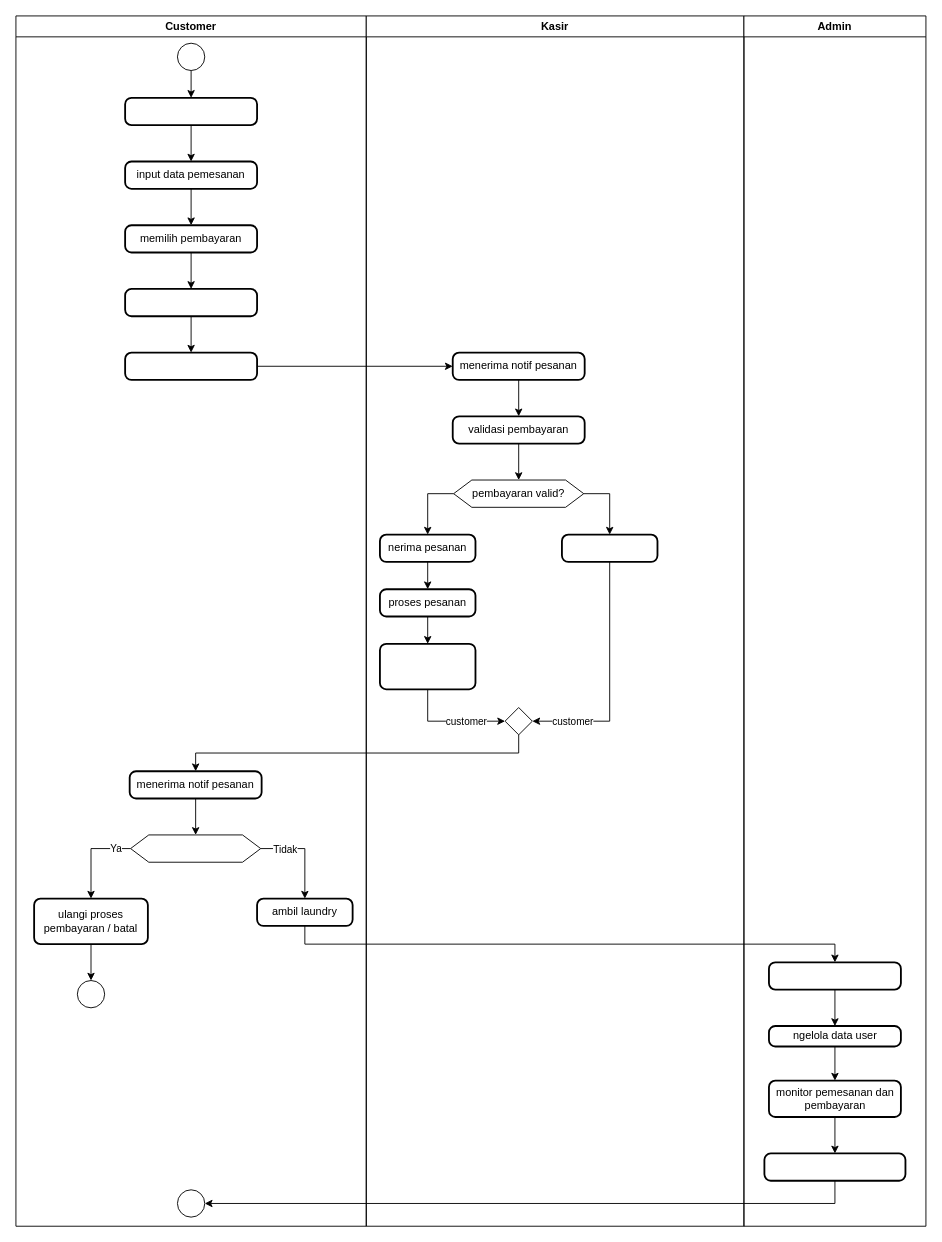
Image size: 942x1242. Some labels were removed from this diagram. Here are the shapes that lost their labels. From the top down, the centre of each, then its label:
the point at 191,111: milih layanan
the point at 191,302: melakukan pembayaran
the point at 191,365: simpan pemesanan
the point at 609,547: tolak pesanan
the point at 427,666: update status pesanan
the point at 195,848: pesanan ditolak ?
the point at 834,975: ngelola data layanan
the point at 834,1166: generate laporan transaksi
